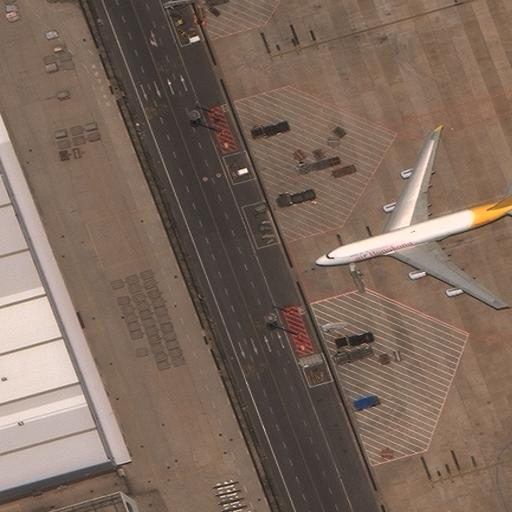Large Civil Transport: (312, 131, 512, 307)
